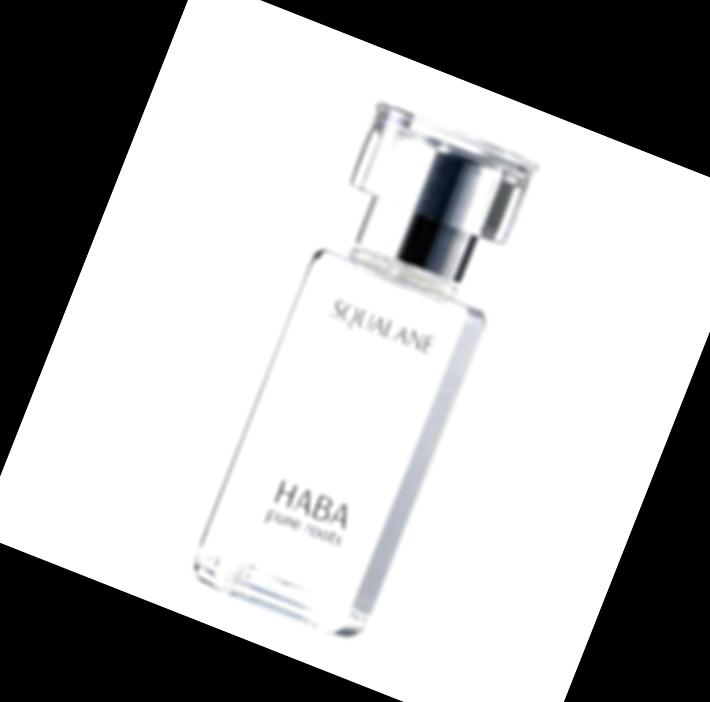cosmetic: (185, 96, 549, 644)
